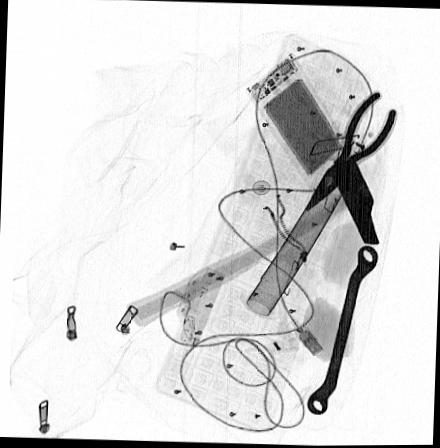Hammer: (125, 156, 379, 327)
Pliers: (302, 90, 399, 212)
Powerbank: (241, 53, 355, 197)
Wrench: (303, 245, 377, 416)
